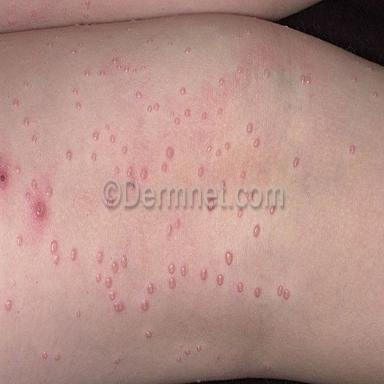Molluscum-Contagiosum: (114, 301, 124, 313), (225, 250, 232, 265), (216, 274, 224, 287), (50, 240, 58, 253), (166, 147, 174, 159), (4, 300, 12, 311), (283, 288, 290, 300), (147, 282, 154, 294), (105, 277, 112, 289), (140, 169, 148, 179), (141, 300, 148, 311), (201, 268, 207, 280), (169, 263, 175, 275), (97, 252, 103, 264), (112, 261, 118, 273), (121, 255, 127, 267), (71, 248, 77, 260), (277, 285, 283, 296), (254, 287, 260, 298), (237, 282, 243, 293), (254, 225, 259, 238), (13, 99, 21, 107), (169, 277, 175, 287), (66, 150, 72, 160), (93, 131, 99, 141), (293, 157, 299, 167), (126, 167, 132, 177), (47, 185, 52, 196), (146, 330, 152, 339), (31, 180, 37, 189), (181, 266, 186, 276), (110, 290, 115, 300), (96, 273, 101, 283), (254, 138, 259, 148), (247, 123, 252, 133), (198, 167, 203, 177), (162, 162, 167, 172), (301, 75, 306, 85), (167, 225, 172, 235), (136, 91, 143, 98), (32, 135, 38, 143), (270, 206, 275, 215), (185, 108, 190, 117), (306, 76, 311, 85), (352, 75, 357, 84), (71, 48, 77, 55), (112, 57, 118, 64), (54, 256, 59, 264), (92, 152, 96, 162), (110, 135, 115, 143), (122, 146, 127, 154), (238, 209, 243, 217), (154, 103, 159, 111), (42, 351, 47, 359), (350, 145, 355, 153), (77, 102, 81, 112), (175, 220, 180, 228), (100, 69, 105, 77), (265, 68, 269, 77), (147, 38, 153, 44), (17, 238, 22, 245), (105, 124, 110, 131), (216, 149, 221, 156), (147, 105, 152, 112), (196, 345, 201, 352), (202, 112, 207, 119), (24, 118, 29, 125), (85, 70, 90, 77), (185, 47, 190, 54), (73, 88, 78, 95), (124, 66, 129, 73), (225, 142, 229, 150), (181, 87, 185, 95), (26, 193, 30, 201), (55, 355, 60, 361), (207, 146, 211, 153), (175, 118, 179, 125), (373, 91, 377, 98), (48, 41, 52, 48), (117, 64, 121, 71), (168, 42, 173, 47), (141, 65, 146, 70), (77, 311, 81, 317), (186, 349, 190, 355), (170, 111, 174, 117), (220, 78, 224, 84), (114, 167, 118, 173), (24, 81, 28, 87), (238, 66, 241, 73), (112, 48, 116, 53), (132, 69, 137, 73), (16, 168, 20, 173), (218, 108, 221, 114), (241, 172, 244, 178), (34, 120, 38, 124), (177, 357, 180, 362), (79, 42, 82, 47), (125, 55, 128, 59)
